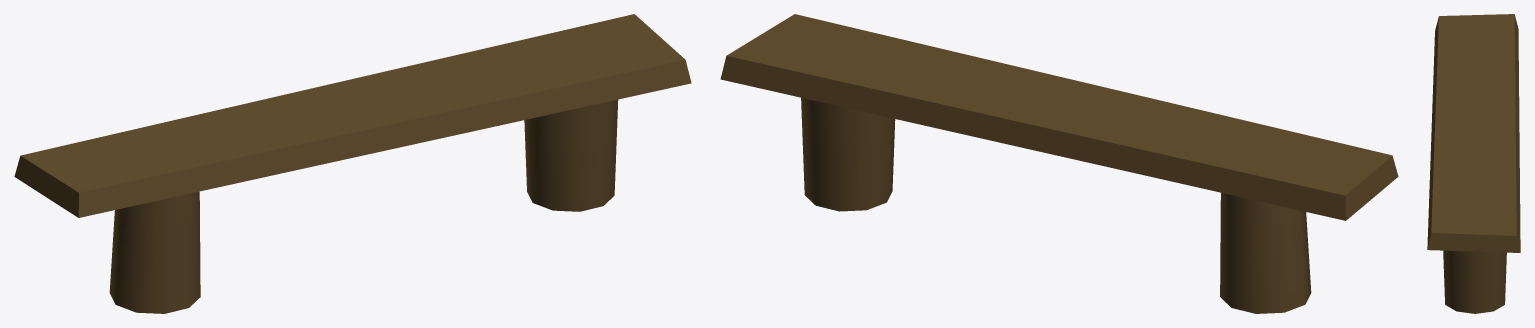
Rendered from SM_Bench.fbx.
3 renders of one model, left to right at view 1: azimuth 30°, elevation 25°; view 2: azimuth 150°, elevation 25°; view 3: azimuth 270°, elevation 25°, orthographic. The views are drawn at different scales.
Parts seen in each view (by area): view 1: SM_Bench; view 2: SM_Bench; view 3: SM_Bench.
Part boxes in pixels (bbox=[...]): SM_Bench: bbox=[14, 14, 691, 313]; SM_Bench: bbox=[720, 14, 1398, 313]; SM_Bench: bbox=[1427, 14, 1520, 313].
Size of the model in its own units: 182 by 40.67 by 33.03.
